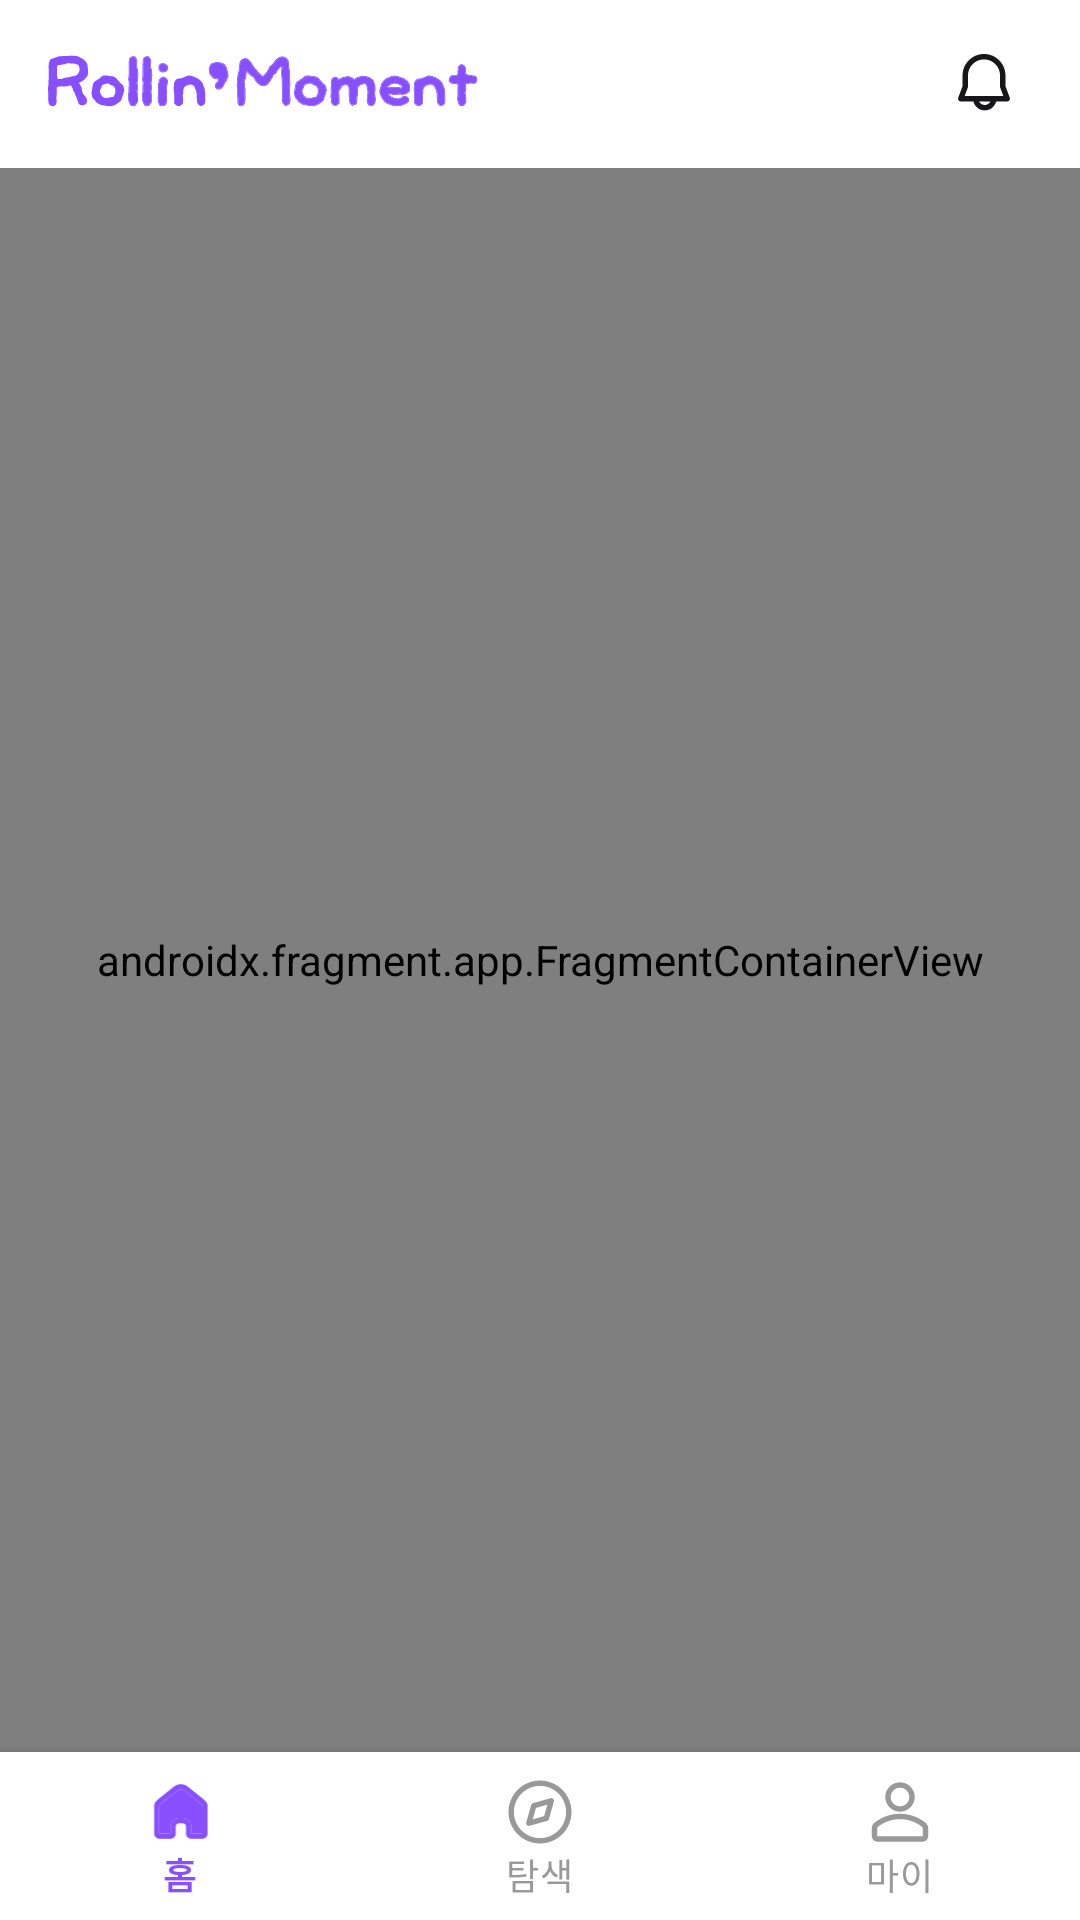

Icons on this 1080 x 1920 Android screen, each with its box as (x1,y1,x2,y2):
alarm: (958,54,1010,111)
